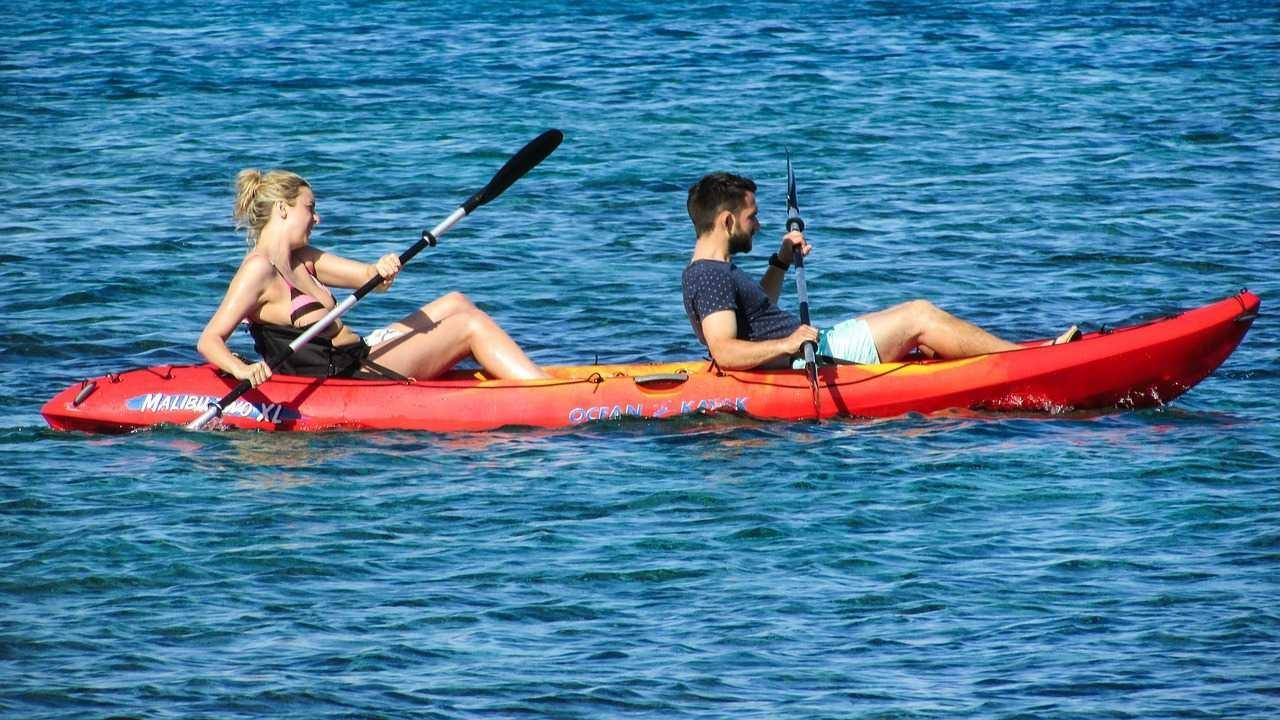kayak: (16, 256, 1268, 443)
